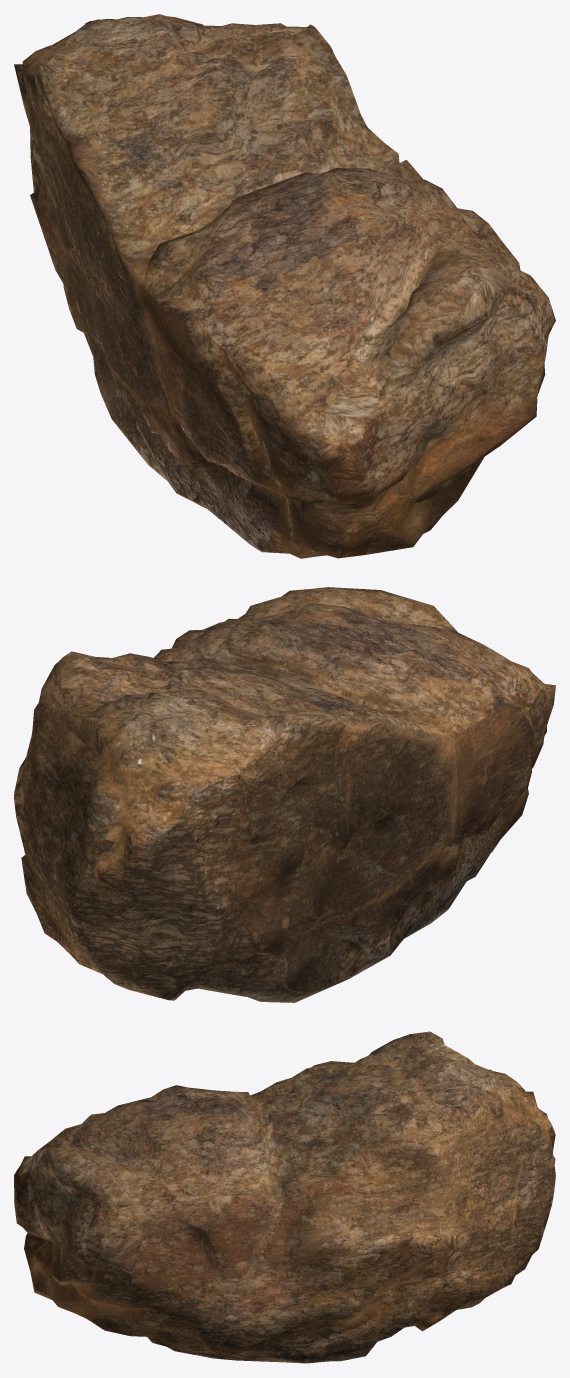
File: boulder_namaqua_06.glb
3 renders of one model, top to bottom at view 1: azimuth 30°, elevation 25°; view 2: azimuth 150°, elevation 25°; view 3: azimuth 270°, elevation 25°, orthographic. The views are drawn at different scales.
Parts seen in each view (by area): view 1: boulder_namaqua_06; view 2: boulder_namaqua_06; view 3: boulder_namaqua_06.
Part boxes in pixels (left/top/right/bottom): boulder_namaqua_06: left=14, top=14, right=555, bottom=558; boulder_namaqua_06: left=14, top=587, right=555, bottom=1002; boulder_namaqua_06: left=14, top=1031, right=555, bottom=1363.
Size of the model in its own units: 0.6688 by 0.6475 by 1.21.
Materials: 1 (1 with a texture image).
